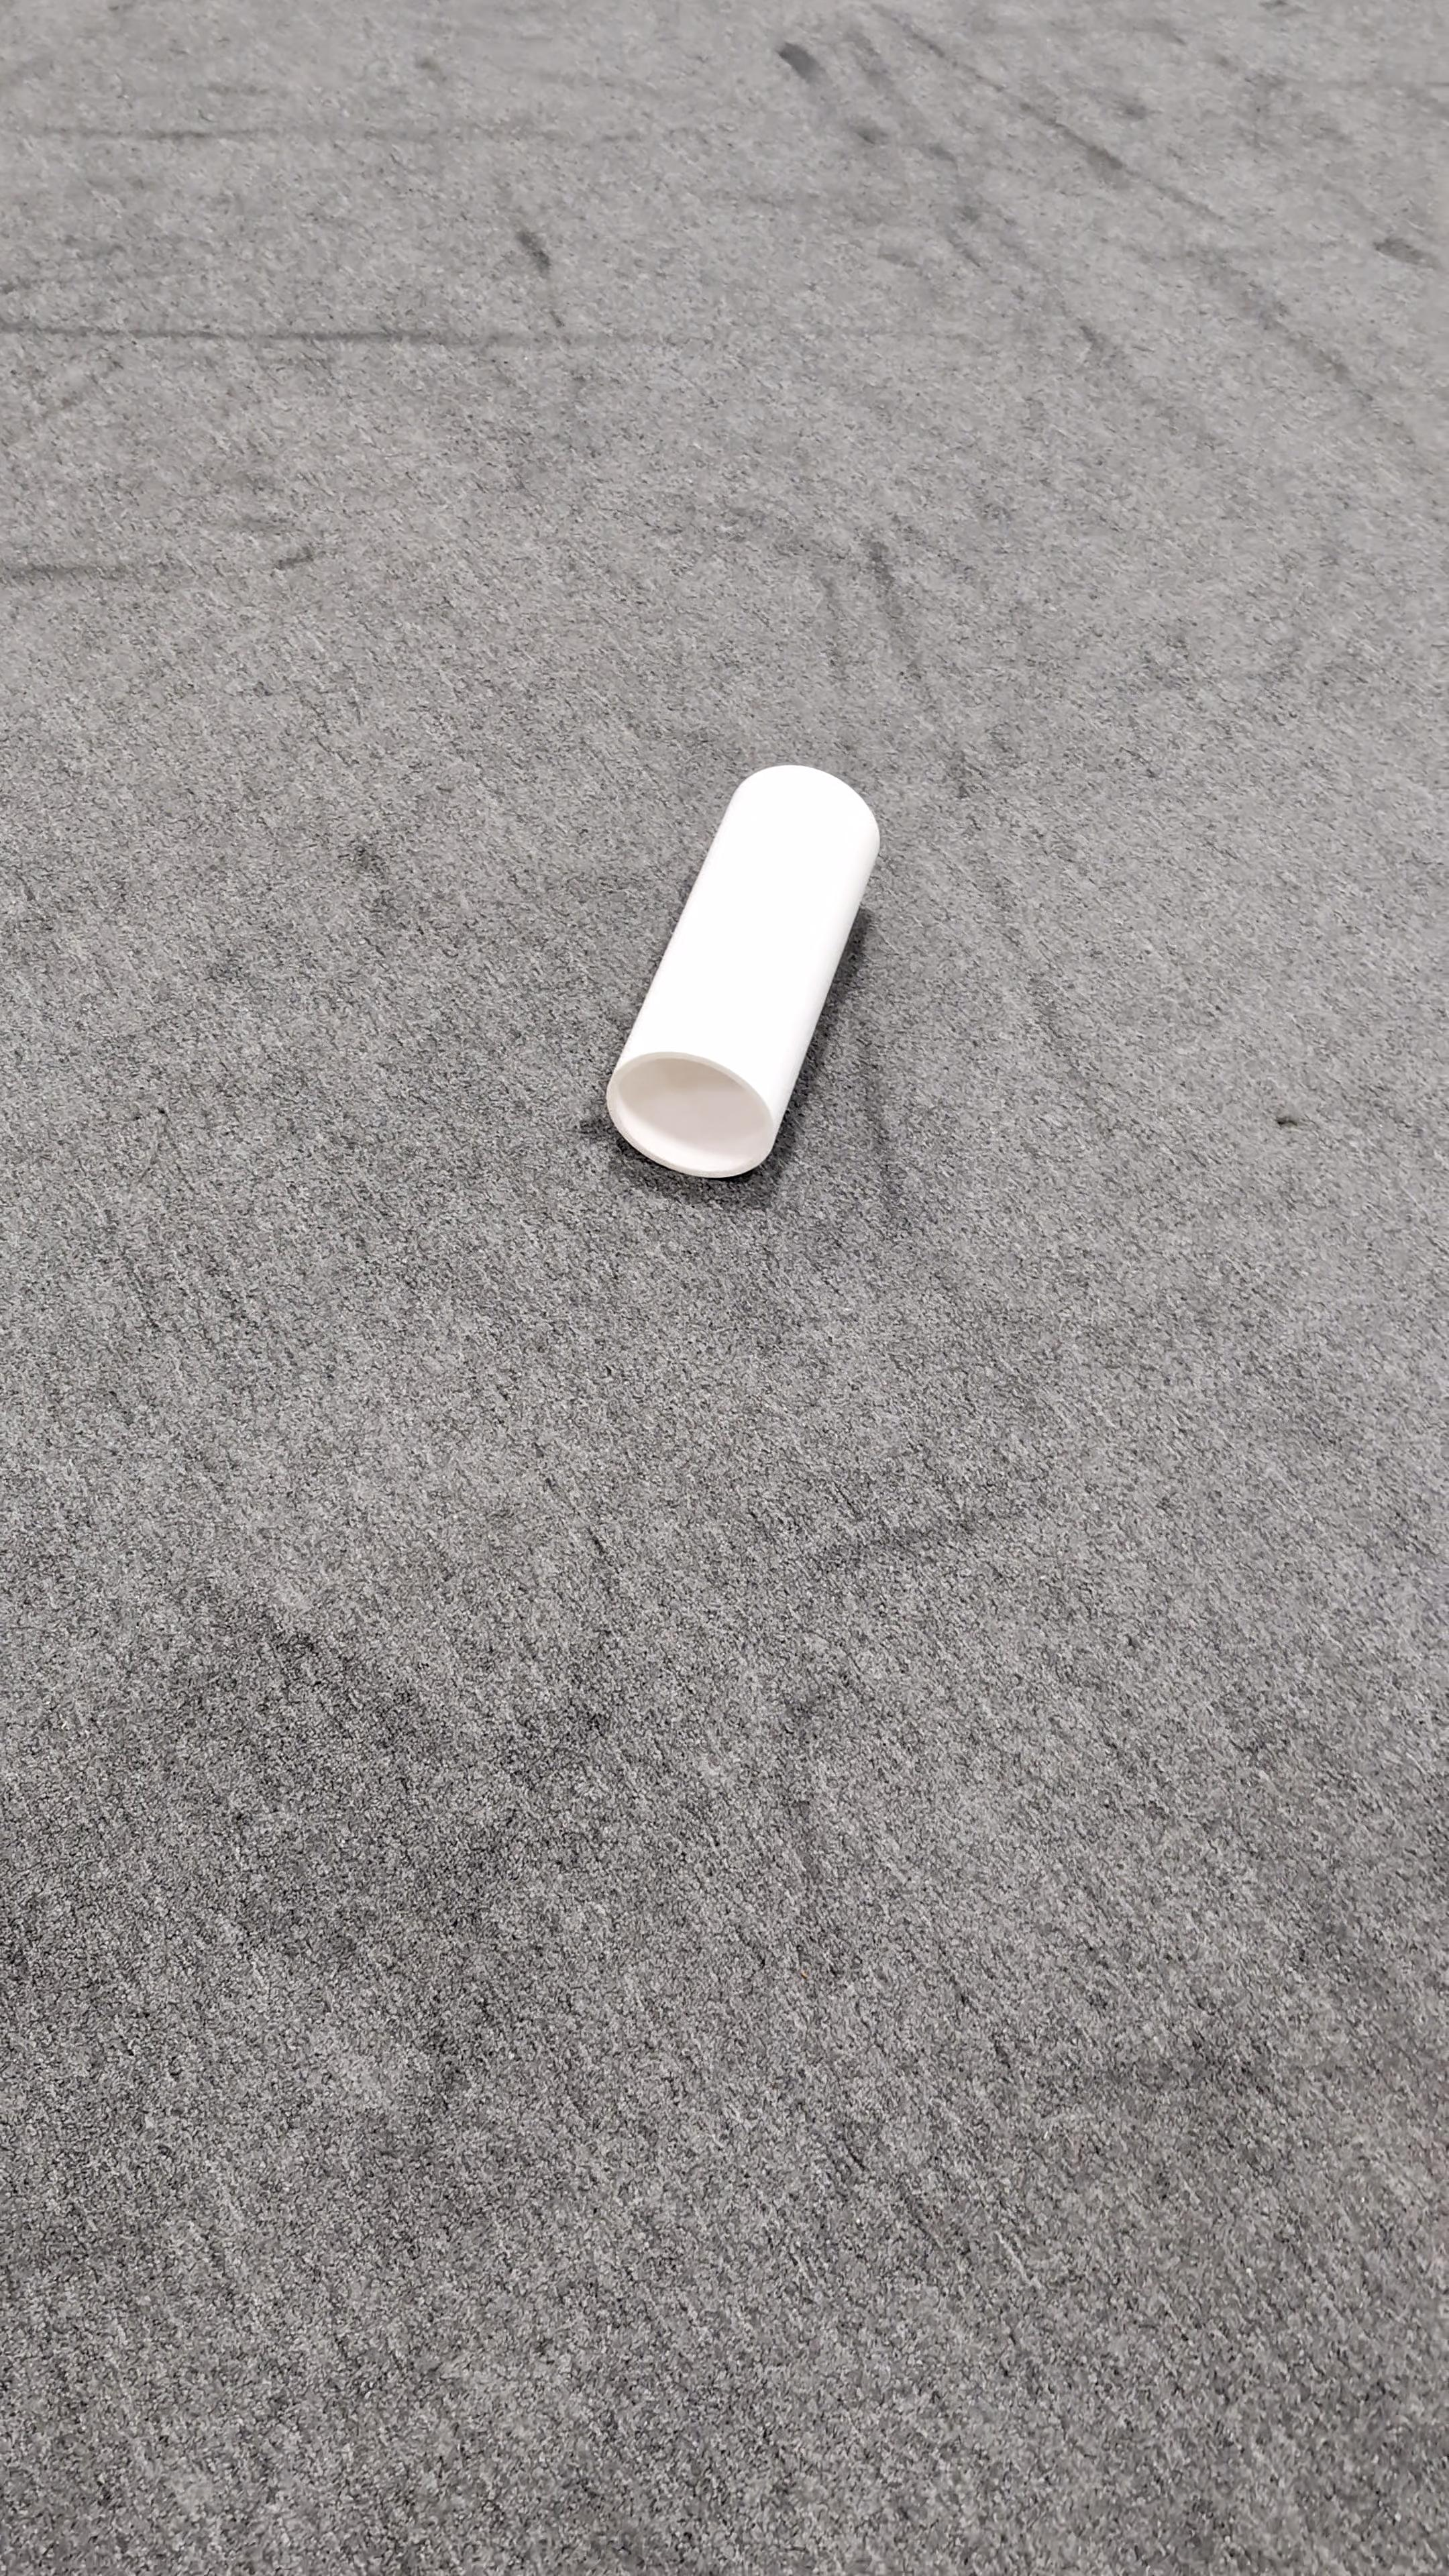coral: (605, 761, 883, 1178)
